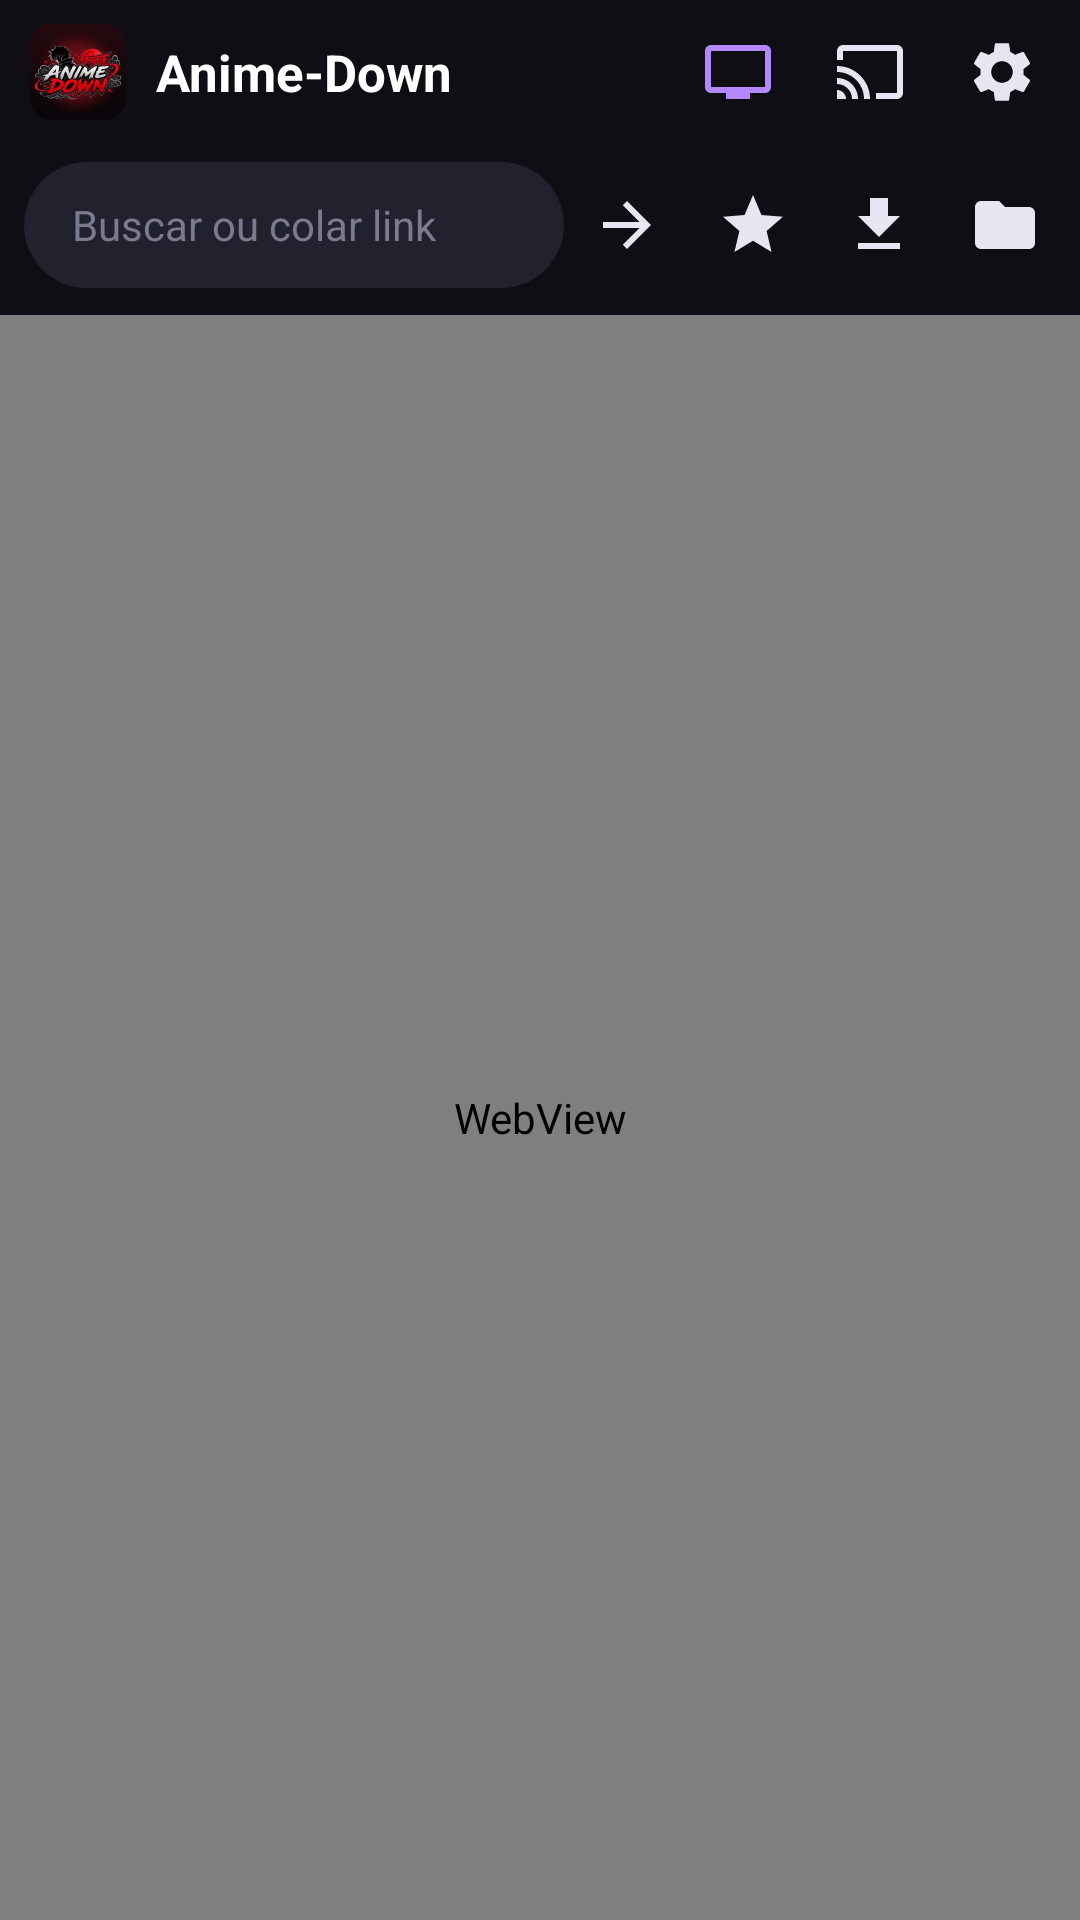

Point at icon controls on the screen. Image size 1080w x 1920h, points as point (x, y).
Baixar: point (879, 223)
Configurações: point (1002, 72)
Favoritos e histórico: point (753, 223)
Ir: point (627, 225)
Meus downloads: point (1005, 225)
TV: point (738, 72)
TV (DLNA): point (870, 72)
